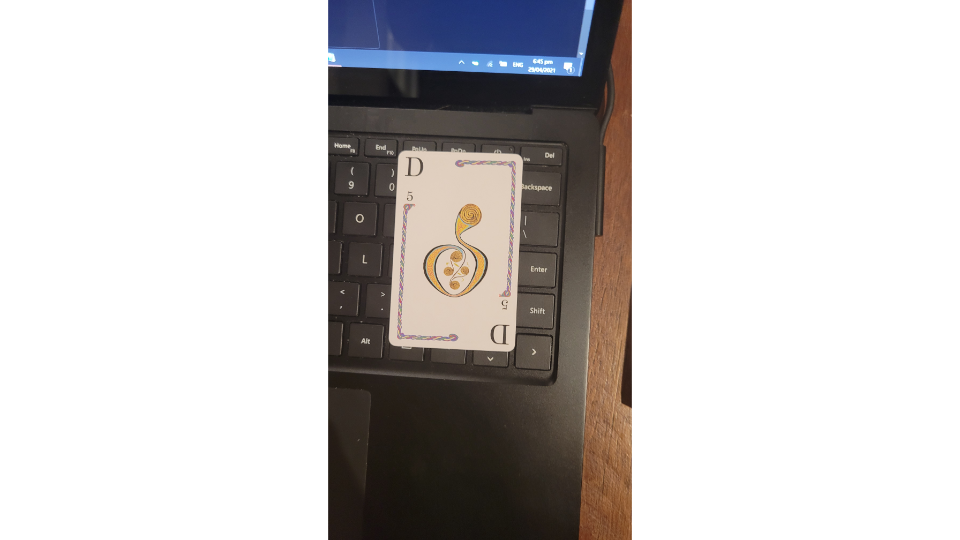D: (386, 147, 526, 354)
